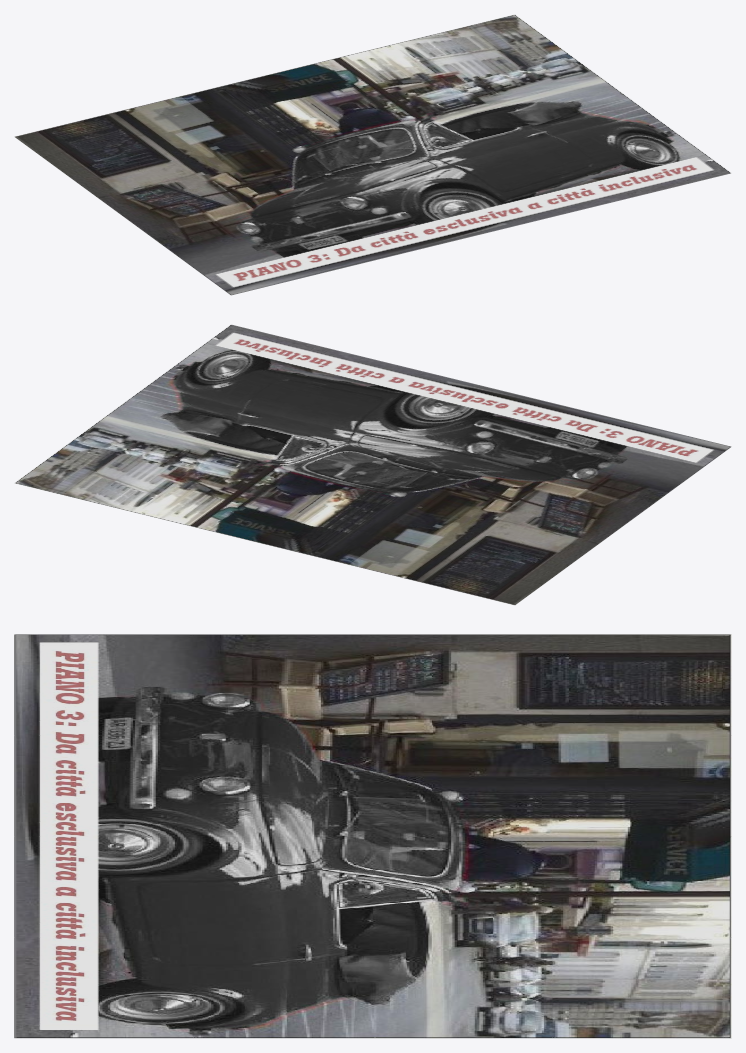
Rendered from FOTO3.obj.
3 renders of one model, top to bottom at view 1: azimuth 30°, elevation 25°; view 2: azimuth 150°, elevation 25°; view 3: azimuth 270°, elevation 25°, orthographic. The views are drawn at different scales.
Parts seen in each view (by area): view 1: Plane001; view 2: Plane001; view 3: Plane001.
Part boxes in pixels (<box>): Plane001: <box>14,14,731,295</box>; Plane001: <box>14,324,731,605</box>; Plane001: <box>14,634,731,1038</box>.
Size of the model in its own units: 8.45 by 0 by 6.34.
